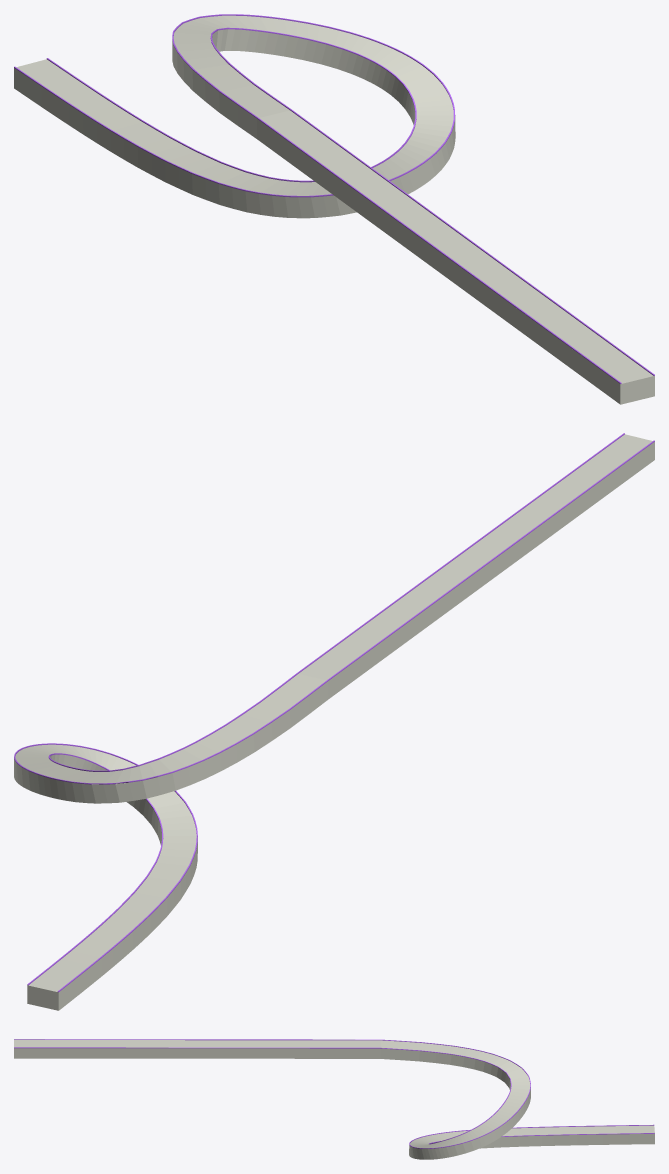
File: Ramp lv 13.fbx
The picture shows the model from 3 angles, top to bottom: view 1: azimuth 30°, elevation 25°; view 2: azimuth 150°, elevation 25°; view 3: azimuth 270°, elevation 25°; orthographic projection. The views are drawn at different scales.
Visible parts, largest first — view 1: lv 014; view 2: lv 014; view 3: lv 014.
Part boxes in pixels (left/top/right/bottom): lv 014: left=14, top=14, right=654, bottom=404; lv 014: left=14, top=433, right=654, bottom=1010; lv 014: left=14, top=1039, right=654, bottom=1159.
Bounding box in the file's own units: 5634 × 3670 × 23851.
